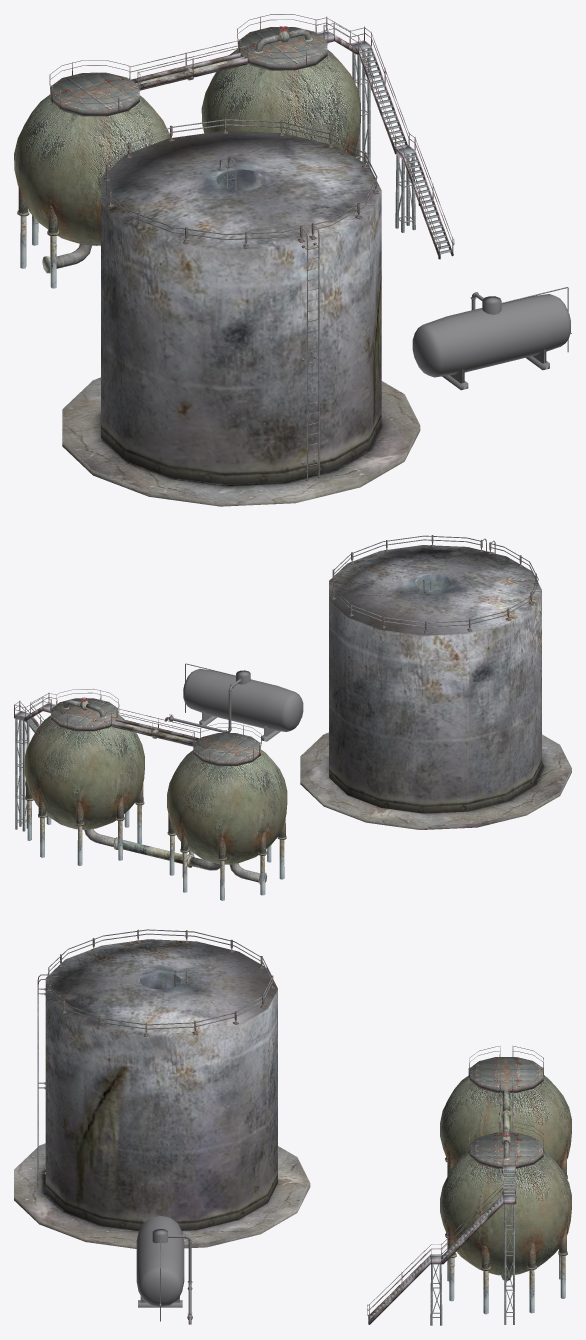
File: ew-tank-farm.lod0.glb
The picture shows the model from 3 angles, top to bottom: view 1: azimuth 30°, elevation 25°; view 2: azimuth 150°, elevation 25°; view 3: azimuth 270°, elevation 25°; orthographic projection. The views are drawn at different scales.
Parts seen in each view (by area): view 1: pCylinder2_Large_tank_0, Round_TankA_Legs_Round_Tank_Material_0, PipeBendC_lambert3_0, Long_Tank:ThickbendA_Long_Tank:Long_TankA_Material_0; view 2: pCylinder2_Large_tank_0, Round_TankA_Legs_Round_Tank_Material_0, Long_Tank:ThickbendA_Long_Tank:Long_TankA_Material_0, PipeBendC_lambert3_0; view 3: pCylinder2_Large_tank_0, Round_TankA_Legs_Round_Tank_Material_0, PipeBendC_lambert3_0, Long_Tank:ThickbendA_Long_Tank:Long_TankA_Material_0.
Boxes of the visible parts, <box> form: pCylinder2_Large_tank_0: <box>62,118,420,506</box>; Round_TankA_Legs_Round_Tank_Material_0: <box>14,27,360,288</box>; PipeBendC_lambert3_0: <box>42,14,454,273</box>; Long_Tank:ThickbendA_Long_Tank:Long_TankA_Material_0: <box>412,287,571,390</box>; pCylinder2_Large_tank_0: <box>300,535,571,829</box>; Round_TankA_Legs_Round_Tank_Material_0: <box>24,698,287,900</box>; Long_Tank:ThickbendA_Long_Tank:Long_TankA_Material_0: <box>165,663,303,741</box>; PipeBendC_lambert3_0: <box>14,688,267,884</box>; pCylinder2_Large_tank_0: <box>14,929,310,1248</box>; Round_TankA_Legs_Round_Tank_Material_0: <box>440,1057,571,1314</box>; PipeBendC_lambert3_0: <box>367,1046,544,1325</box>; Long_Tank:ThickbendA_Long_Tank:Long_TankA_Material_0: <box>136,1216,192,1324</box>.
Bounding box in the file's own units: 25.49 × 12.9 × 30.
Materials: 4 (3 with a texture image).
